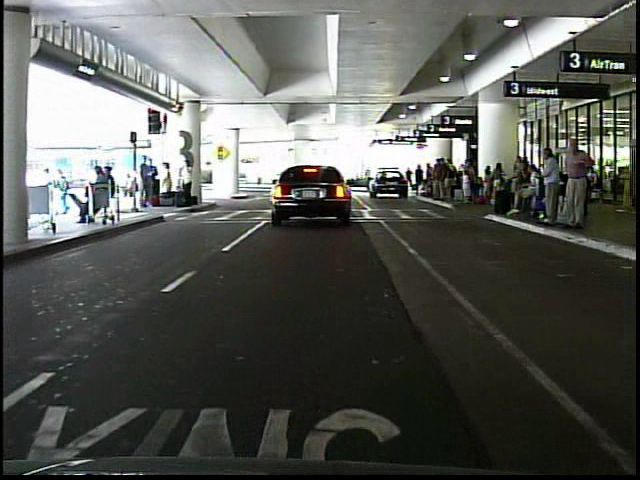person: (557, 134, 597, 235), (538, 145, 563, 228), (45, 162, 68, 219), (180, 158, 195, 204), (162, 160, 177, 205), (415, 160, 427, 197), (405, 160, 415, 194)
